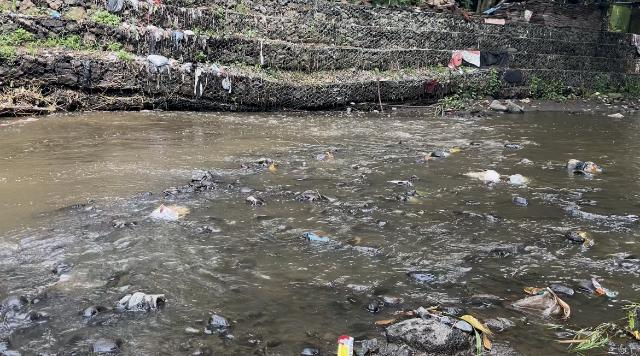Sampah Anorganik: (38, 263, 110, 295), (560, 160, 609, 184), (517, 294, 562, 315), (461, 168, 502, 183), (337, 334, 360, 356), (588, 276, 614, 295), (304, 232, 329, 245), (510, 173, 528, 185), (389, 181, 411, 186), (450, 148, 461, 152)
Sampah Organik: (380, 312, 503, 355), (553, 318, 639, 356), (147, 200, 190, 220), (399, 189, 428, 204), (162, 188, 180, 197), (353, 236, 365, 245), (576, 231, 586, 240), (326, 153, 336, 158), (268, 165, 275, 172), (424, 157, 427, 161)
